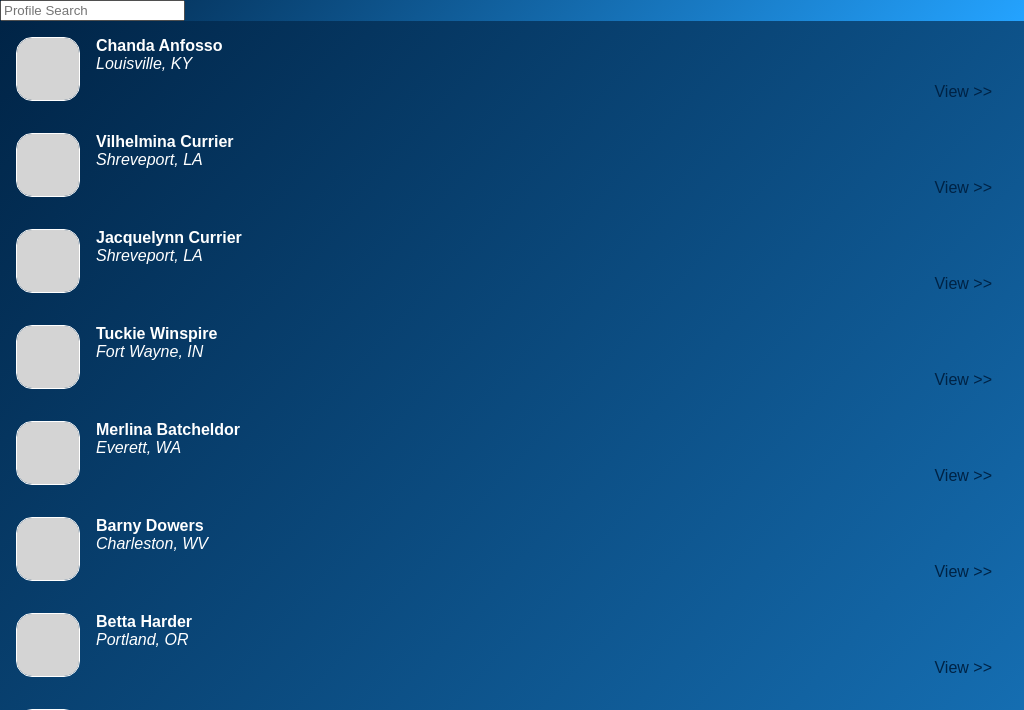
Nav › filter nav list
The image size is (1024, 710).
Type "Currier" into the field with placeholder "Profile Search" at point(92, 10), box [0,0,185,21]
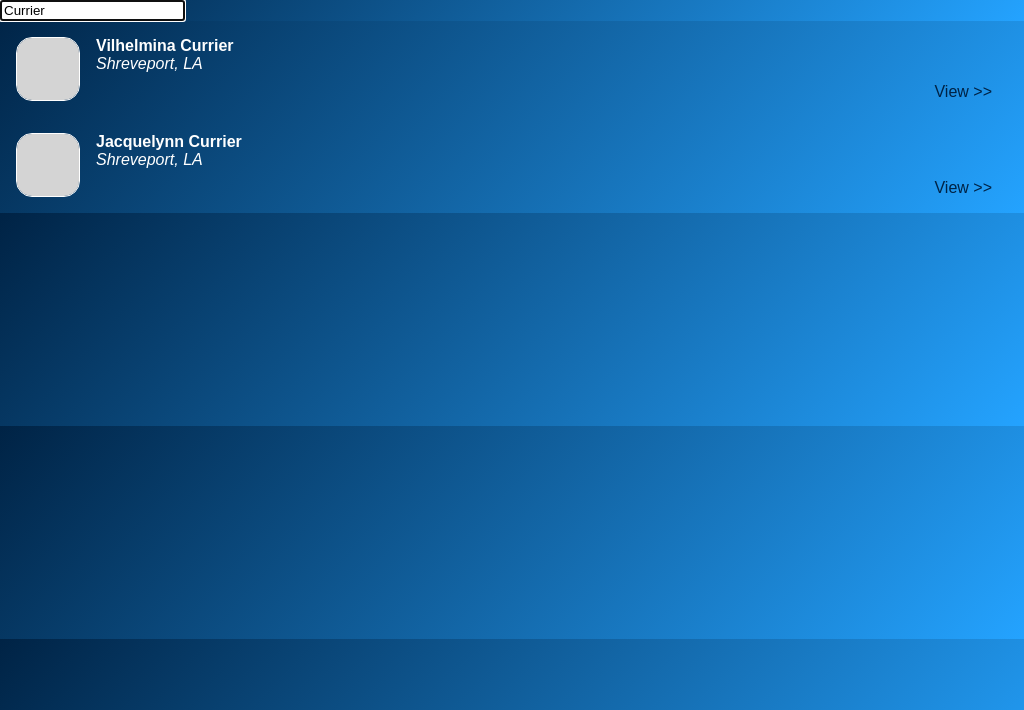
Check: the number of links "View" is 2, box [918,67,1008,116]; [918,163,1008,212]
